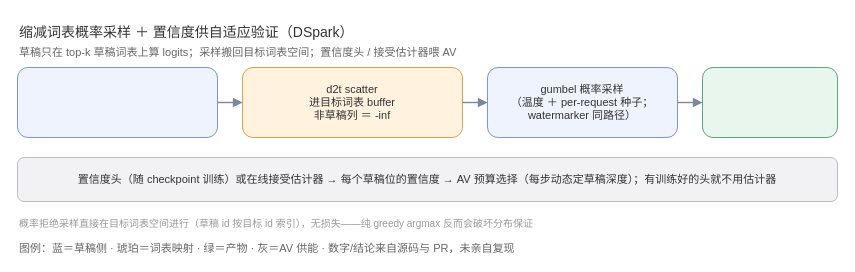
Image size: 855x272. Some labels were removed from this diagram. The shapes that lost their labels are listed below. From the top down, each one's centre as x and y in pixels, then its label:
the point at 117,102: base logits top-k 草稿词表 （dspark_draft_topk）
the point at 770,102: 草稿 token → 无损拒绝采样
